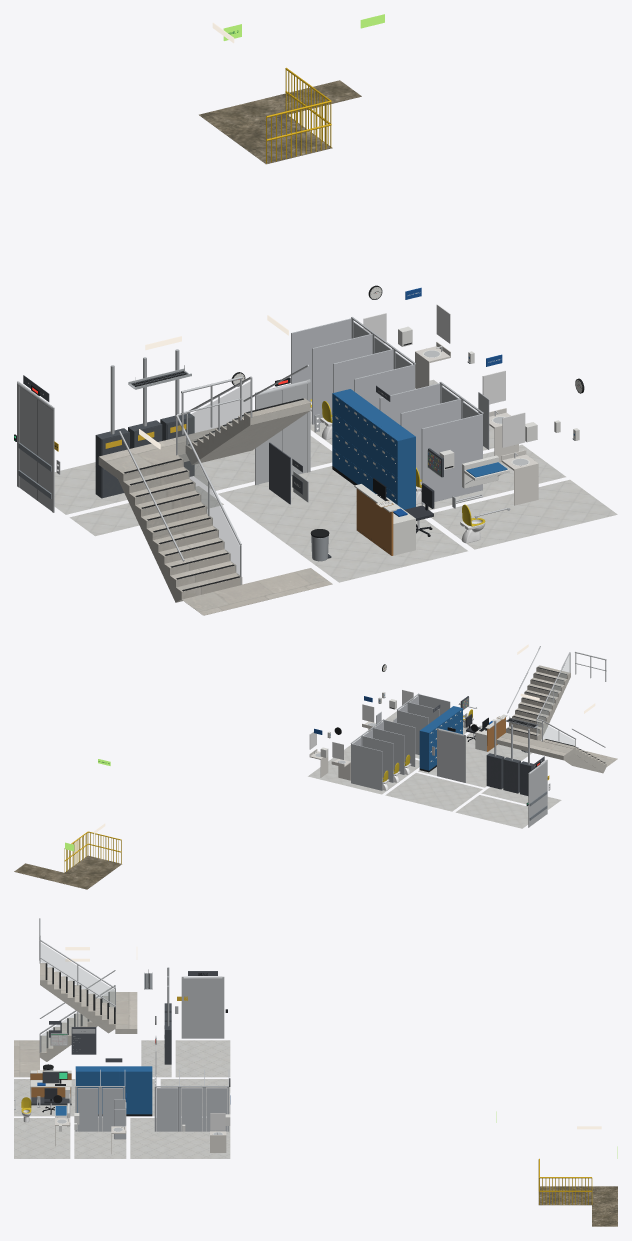
The model's file is 26_n2_nucleo_y_escaleras.glb.
The picture shows the model from 3 angles, top to bottom: view 1: azimuth 30°, elevation 25°; view 2: azimuth 150°, elevation 25°; view 3: azimuth 270°, elevation 25°; orthographic projection. The views are drawn at different scales.
Visible parts, largest first — view 1: escalera de dos tramos.001, piso · Vestíbulo de elevador.001, mamparas de sanitario.002, piso de llegada.001, mamparas de sanitario.003, piso · Sanitario neutro.001, lockers_visitantes (×5), lavabo_ceramica (×3), puertas_montacargas, tablero_electrico (×3), puertas_elevador_120, mostrador_lockers (+7 smaller); view 2: escalera de dos tramos.001, mamparas de sanitario.002, piso de llegada.001, piso · Elevador.001, tablero_electrico (×3), piso · Montacargas.001, puertas_elevador_120, mamparas de sanitario.003, piso · Vestíbulo de elevador.001, puertas_montacargas, piso · Sanitarios · mujeres.001, lavabo_ceramica (×2) (+3 smaller); view 3: escalera de dos tramos.001, mamparas de sanitario.002, piso · Sanitarios · mujeres.001, puertas_montacargas, piso de llegada.001, piso · Sanitario neutro.001, piso · Montacargas.001, mamparas de sanitario.003, piso · Sanitarios · hombres.001, lockers_visitantes (×2), piso · Vestíbulo de elevador.001, mostrador_lockers (+6 smaller).
Boxes of the visible parts, x1,y1,x2,y2 form: escalera de dos tramos.001: (98,315,310,602); piso · Vestíbulo de elevador.001: (218,466,467,582); mamparas de sanitario.002: (291,317,415,424); piso de llegada.001: (199,22,361,164); mamparas de sanitario.003: (379,382,483,504); piso · Sanitario neutro.001: (431,479,617,549); lockers_visitantes (×5): (332,389,415,509); lavabo_ceramica (×3): (415,304,538,505); puertas_montacargas: (17,381,60,512); tablero_electrico (×3): (95,349,194,498); puertas_elevador_120: (255,377,319,485); mostrador_lockers: (354,478,415,555); escalera de dos tramos.001: (496,644,606,773); mamparas de sanitario.002: (350,719,415,790); piso de llegada.001: (14,823,121,889); piso · Elevador.001: (385,773,482,811); tablero_electrico (×3): (486,720,536,795); piso · Montacargas.001: (455,795,528,828); puertas_elevador_120: (432,727,465,782); mamparas de sanitario.003: (396,693,450,754); piso · Vestíbulo de elevador.001: (418,725,541,787); puertas_montacargas: (528,759,550,827); piso · Sanitarios · mujeres.001: (308,745,419,794); lavabo_ceramica (×2): (309,731,350,780); escalera de dos tramos.001: (39,918,137,1061); mamparas de sanitario.002: (154,1069,229,1131); piso · Sanitarios · mujeres.001: (130,1118,230,1158); puertas_montacargas: (175,973,224,1038); piso de llegada.001: (538,1126,617,1226); piso · Sanitario neutro.001: (14,1118,70,1158); piso · Montacargas.001: (175,1040,230,1077); mamparas de sanitario.003: (75,1069,125,1131); piso · Sanitarios · hombres.001: (74,1118,126,1158); lockers_visitantes (×2): (130,1066,152,1116); piso · Vestíbulo de elevador.001: (14,1079,155,1116); mostrador_lockers: (30,1070,71,1105).
Bounding box in the file's own units: 16.3 × 5.42 × 22.05.
48 materials, 9 textured.
